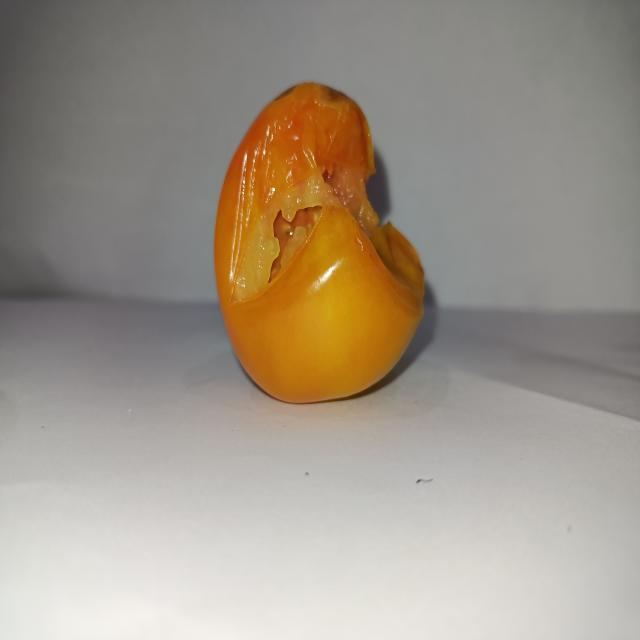Red: (212, 80, 426, 404)
